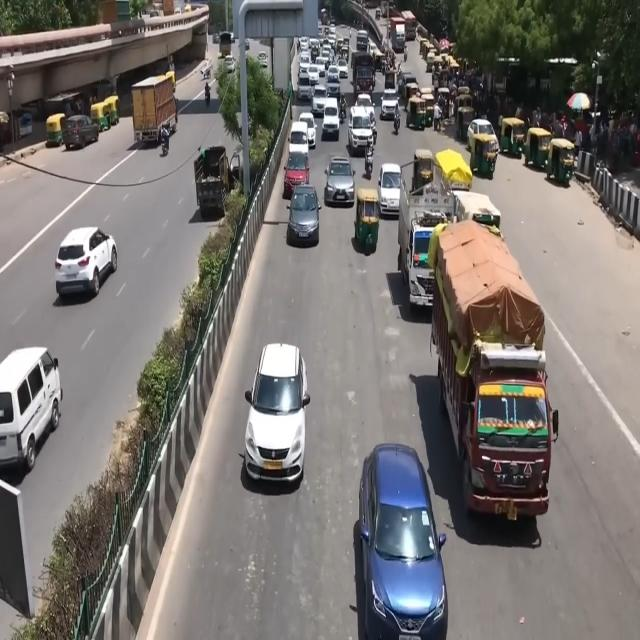auto: (353, 186, 380, 254), (466, 131, 498, 180), (548, 136, 576, 185), (524, 126, 552, 172), (499, 116, 525, 158), (412, 148, 434, 192), (456, 99, 477, 140), (406, 95, 427, 131), (91, 99, 112, 131), (46, 114, 66, 147), (419, 90, 435, 127), (102, 95, 120, 127)
bike-auto: (364, 145, 374, 178), (160, 122, 170, 154), (385, 49, 396, 72), (393, 106, 401, 133), (338, 99, 346, 123), (370, 117, 377, 144), (438, 111, 446, 132), (204, 81, 210, 104), (381, 59, 387, 75), (397, 64, 402, 82), (403, 47, 408, 62), (297, 39, 300, 55)
